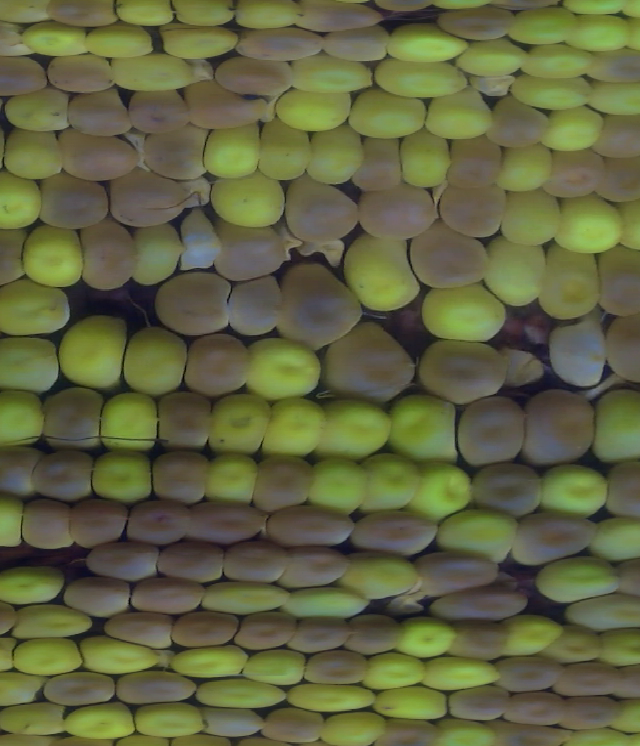fluorescent: (339, 229, 427, 317), (382, 389, 472, 470), (235, 332, 328, 407), (416, 277, 513, 346), (51, 311, 133, 392), (533, 241, 610, 324), (430, 501, 526, 566), (16, 219, 94, 294), (115, 324, 193, 399), (551, 191, 635, 260), (476, 233, 551, 310), (314, 393, 395, 464), (254, 390, 333, 461), (342, 85, 436, 144), (333, 548, 427, 605), (203, 386, 279, 456), (301, 450, 377, 520), (365, 53, 473, 102), (530, 551, 627, 605), (403, 458, 482, 524), (352, 447, 427, 516), (207, 168, 289, 231), (0, 276, 76, 341), (375, 19, 473, 69), (94, 386, 167, 453), (535, 458, 612, 521), (192, 669, 295, 716), (104, 49, 200, 99), (285, 48, 380, 98), (298, 125, 371, 188), (418, 86, 498, 143), (497, 187, 568, 251), (585, 385, 640, 467), (253, 117, 321, 183), (84, 446, 164, 502), (195, 447, 265, 510), (0, 123, 72, 184), (414, 649, 507, 696), (501, 2, 591, 50), (0, 82, 77, 138), (0, 331, 65, 397), (125, 220, 187, 289), (8, 599, 101, 645), (75, 634, 166, 681), (197, 576, 296, 619), (369, 679, 461, 725), (279, 581, 373, 626), (200, 120, 269, 181), (267, 86, 356, 132), (6, 634, 89, 683), (283, 674, 384, 714), (159, 16, 244, 63), (494, 139, 562, 197), (170, 639, 255, 685), (395, 126, 455, 191), (355, 646, 433, 696), (128, 697, 210, 744), (512, 40, 599, 84), (510, 70, 597, 114), (389, 611, 462, 663), (58, 697, 144, 741), (0, 559, 72, 610), (15, 15, 93, 62), (495, 609, 568, 659), (452, 34, 528, 82), (0, 384, 53, 451), (566, 589, 640, 636), (82, 19, 157, 65), (236, 645, 313, 689), (561, 12, 639, 53), (0, 165, 47, 232), (540, 623, 608, 668), (0, 696, 74, 737), (313, 709, 395, 746), (584, 512, 640, 565), (582, 73, 640, 121), (229, 1, 306, 34), (424, 712, 497, 746), (109, 1, 180, 34), (592, 622, 640, 670), (167, 1, 239, 32), (0, 669, 46, 709), (559, 723, 630, 746), (606, 693, 640, 738), (0, 1, 55, 26)
nonfluorescent: (319, 317, 423, 407), (274, 260, 365, 352), (519, 385, 603, 475), (405, 217, 498, 297), (409, 335, 512, 406), (279, 169, 367, 248), (452, 391, 533, 470), (148, 269, 235, 342), (541, 309, 614, 394), (351, 180, 444, 246), (337, 503, 446, 559), (29, 167, 115, 236), (178, 328, 258, 401), (55, 125, 149, 187), (507, 507, 600, 569), (210, 216, 290, 286), (177, 77, 274, 134), (177, 494, 276, 549), (104, 167, 191, 229), (72, 215, 137, 296), (465, 454, 544, 518), (263, 500, 360, 552), (36, 381, 107, 452), (143, 440, 215, 509), (408, 548, 503, 600), (435, 180, 513, 243), (143, 120, 214, 188), (149, 385, 217, 455), (248, 450, 319, 517), (25, 445, 102, 504), (149, 534, 234, 587), (222, 272, 285, 343), (484, 90, 556, 152), (229, 22, 329, 66), (431, 584, 535, 626), (212, 50, 299, 100), (438, 612, 517, 666), (274, 540, 357, 591), (81, 536, 167, 585), (63, 86, 138, 142), (167, 205, 228, 273), (97, 607, 183, 655), (216, 536, 295, 588), (350, 128, 410, 196), (441, 131, 509, 191), (65, 491, 133, 551), (105, 668, 205, 708), (164, 605, 245, 654), (13, 495, 78, 556), (538, 146, 611, 200), (127, 571, 208, 619), (119, 496, 195, 547), (589, 241, 640, 317), (291, 1, 391, 39), (487, 650, 571, 695), (45, 49, 120, 99), (122, 87, 193, 139), (37, 667, 124, 709), (550, 658, 633, 702), (229, 608, 304, 656), (433, 5, 520, 46), (315, 21, 392, 67), (500, 685, 578, 730), (61, 572, 130, 622), (341, 609, 406, 659), (283, 612, 357, 655), (601, 304, 640, 384), (443, 683, 515, 726), (257, 705, 331, 746), (555, 692, 625, 734), (299, 647, 372, 687), (599, 457, 640, 527), (0, 49, 53, 101), (195, 703, 269, 740), (589, 109, 640, 162), (591, 150, 640, 205), (496, 342, 551, 391), (38, 1, 121, 31), (0, 443, 44, 499), (584, 45, 640, 89), (488, 715, 563, 746), (0, 222, 33, 292), (371, 714, 443, 746), (0, 15, 38, 61)
